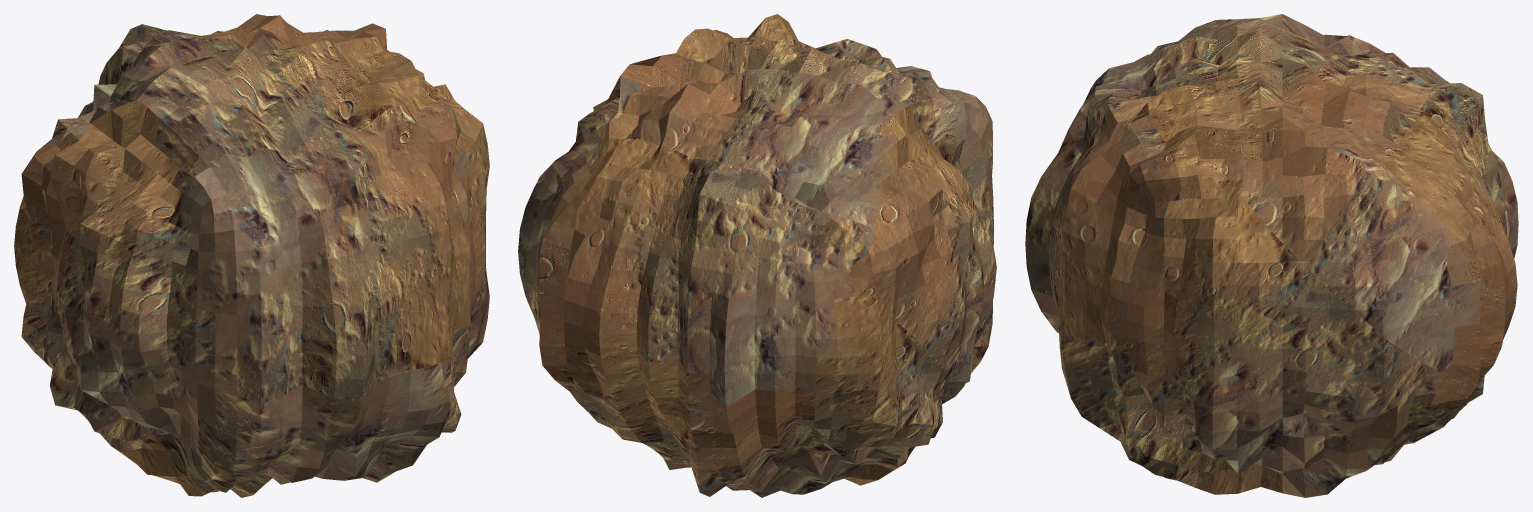
File: asteroid145.obj
The picture shows the model from 3 angles, left to right: view 1: azimuth 30°, elevation 25°; view 2: azimuth 150°, elevation 25°; view 3: azimuth 270°, elevation 25°; orthographic projection. The views are drawn at different scales.
Parts seen in each view (by area): view 1: Cube_Cube.002; view 2: Cube_Cube.002; view 3: Cube_Cube.002.
Boxes of the visible parts, x1=… form: Cube_Cube.002: x1=14, y1=14, x2=489, y2=497; Cube_Cube.002: x1=518, y1=14, x2=996, y2=497; Cube_Cube.002: x1=1025, y1=14, x2=1518, y2=497.
Size of the model in its own units: 1.7 by 1.75 by 1.83.
